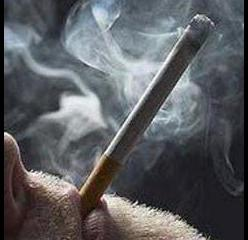Cigarette: (79, 14, 211, 210)
Smoke: (4, 0, 244, 174)
